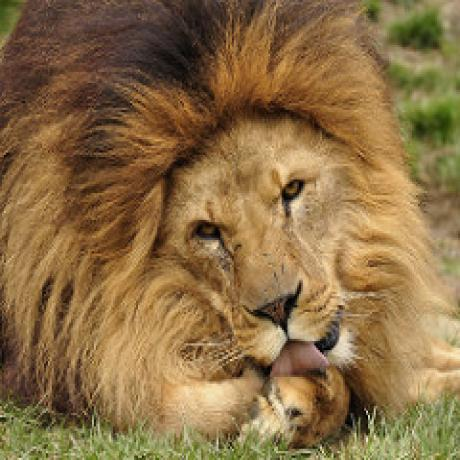Lion: (0, 0, 438, 446)
